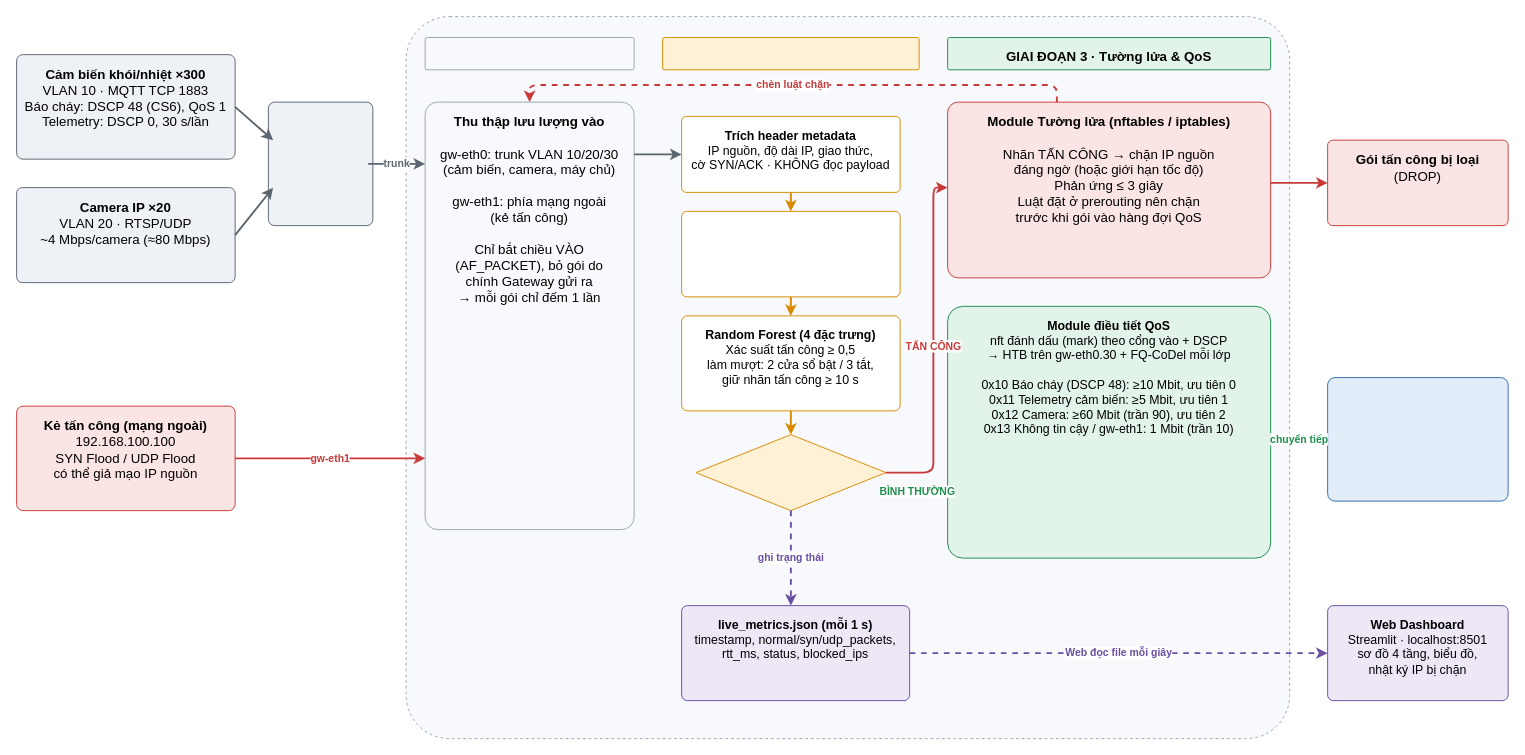
Image size: 1525x755. Some labels were removed from this diagram. Here are the shapes that lost their labels. From the top down, the centre of each, then its label:
the point at 529,53: GIAI ĐOẠN 1 · Tiếp nhận
the point at 790,53: GIAI ĐOẠN 2 · Edge AI phân loại
the point at 320,163: OVS s1 Switch ảo VLAN access trunk → gw
the point at 790,253: Cửa sổ thời gian 1 giây packet_rate · byte_rate syn_count · ip_dispersion
the point at 1417,439: Máy chủ srv · VLAN 30 10.0.30.10 MQTT broker Mosquitto Dashboard / cảnh báo
the point at 790,472: Nhãn?
